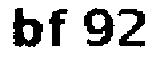2: (117, 6, 148, 52)
9: (83, 9, 118, 48)
b: (12, 7, 43, 50)
f: (48, 6, 72, 47)
